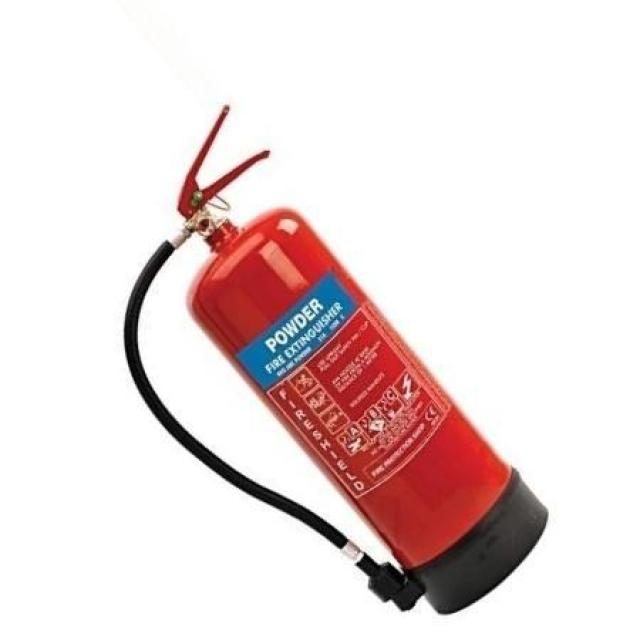fire_extinguisher: (116, 98, 554, 620)
